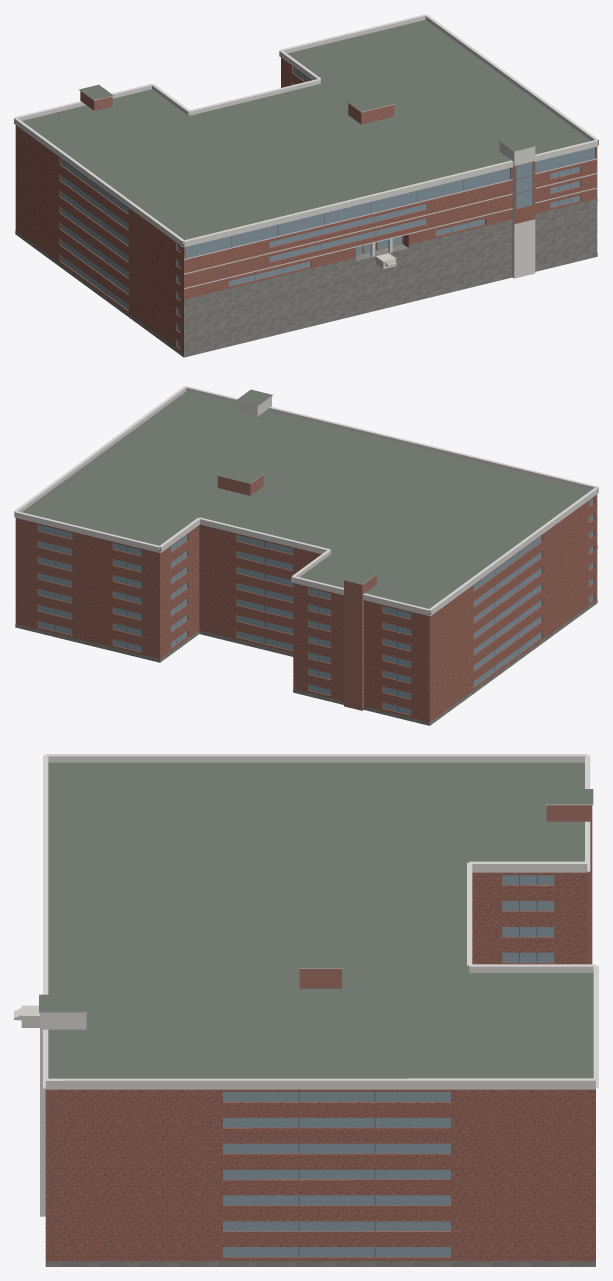
3 renders of one model, top to bottom at view 1: azimuth 30°, elevation 25°; view 2: azimuth 150°, elevation 25°; view 3: azimuth 270°, elevation 25°, orthographic. The views are drawn at different scales.
Parts seen in each view (by area): view 1: b200__roof, b200__wall, b200__base, b200__trim, b200__glass, b200__wall2; view 2: b200__roof, b200__wall, b200__glass, b200__trim, b200__wall2, b200__base; view 3: b200__roof, b200__wall, b200__trim, b200__glass, b200__base, b200__wall2.
Part boxes in pixels (x1,y1,x2,y2): b200__roof: (22,20,594,357); b200__wall: (15,58,597,356); b200__base: (15,199,597,357); b200__trim: (14,14,598,289); b200__glass: (60,67,595,348); b200__wall2: (80,91,394,124); b200__roof: (22,389,590,613); b200__wall: (15,494,597,725); b200__glass: (38,498,593,714); b200__trim: (14,386,598,615); b200__wall2: (217,474,376,710); b200__base: (15,545,597,725); b200__roof: (39,762,595,1266); b200__wall: (45,872,595,1260); b200__trim: (39,754,598,1216); b200__glass: (223,875,554,1256); b200__base: (45,1261,595,1266); b200__wall2: (299,805,592,988).
Bounding box in the file's own units: 94.91 × 27.77 × 71.79.
10 materials, 2 textured.
